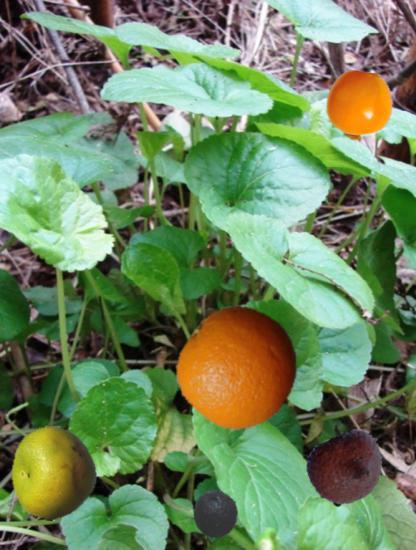Avocado: (188, 489, 240, 541)
Orange: (176, 305, 301, 430)
Physalis: (324, 72, 395, 143)
Pomelo: (7, 426, 102, 521)
Salak: (307, 430, 386, 509)
